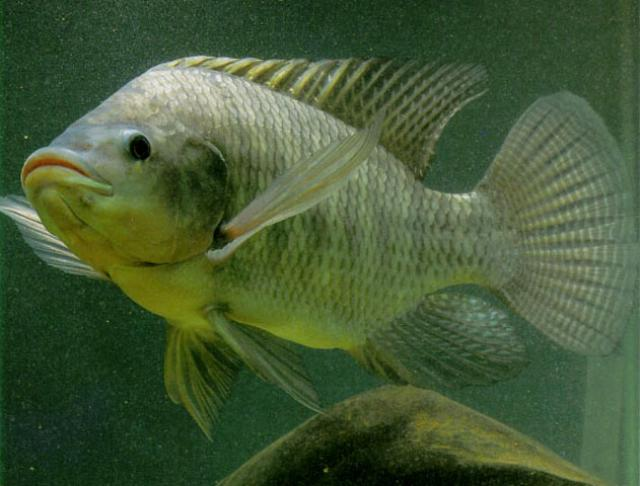Mulut: (15, 142, 106, 206)
Sirip Anal: (354, 284, 536, 396)
Sirip Dada: (216, 95, 398, 277), (0, 174, 112, 298)
Sirip Ekor: (476, 83, 638, 365)
Sirip Perut: (149, 298, 337, 450)
Sirip Punggung: (180, 29, 494, 198)
